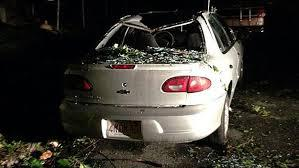Rear-windscreen-Damage: (94, 18, 210, 73)
